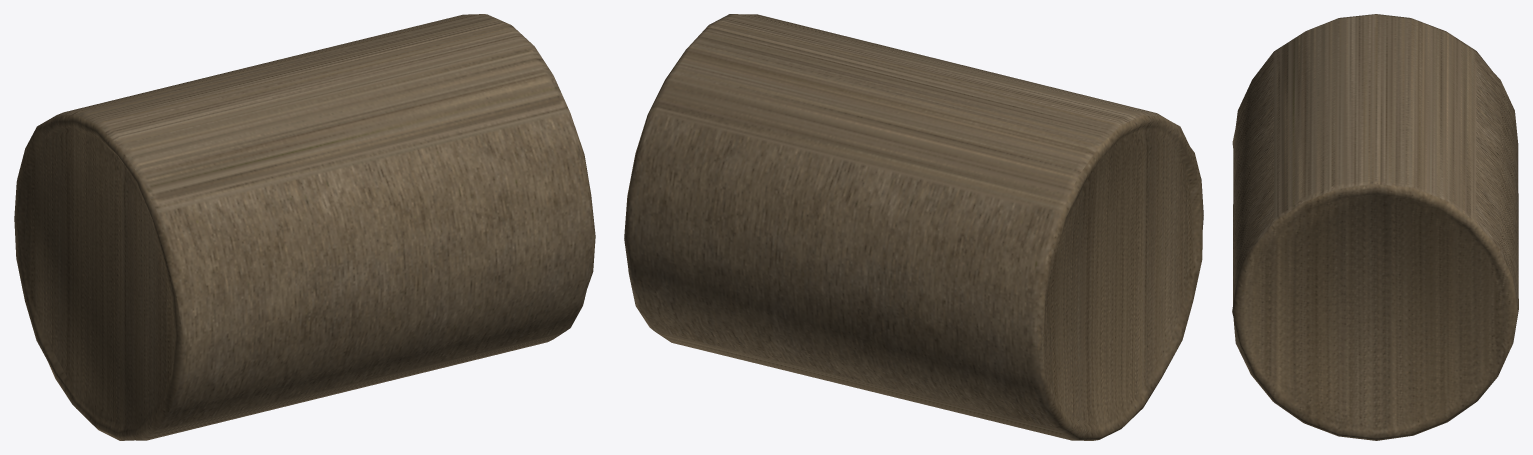
The model's file is hay_bale.glb.
3 views of the same model, side by side, from view 1: azimuth 30°, elevation 25°; view 2: azimuth 150°, elevation 25°; view 3: azimuth 270°, elevation 25° (orthographic). The views are drawn at different scales.
Parts seen in each view (by area): view 1: Cylinder; view 2: Cylinder; view 3: Cylinder.
Boxes of the visible parts, x1=… form: Cylinder: x1=14, y1=14, x2=595, y2=440; Cylinder: x1=624, y1=14, x2=1203, y2=440; Cylinder: x1=1232, y1=14, x2=1518, y2=440.
Bounding box in the file's own units: 1.58 × 1.1 × 1.1.
1 material, 1 textured.
